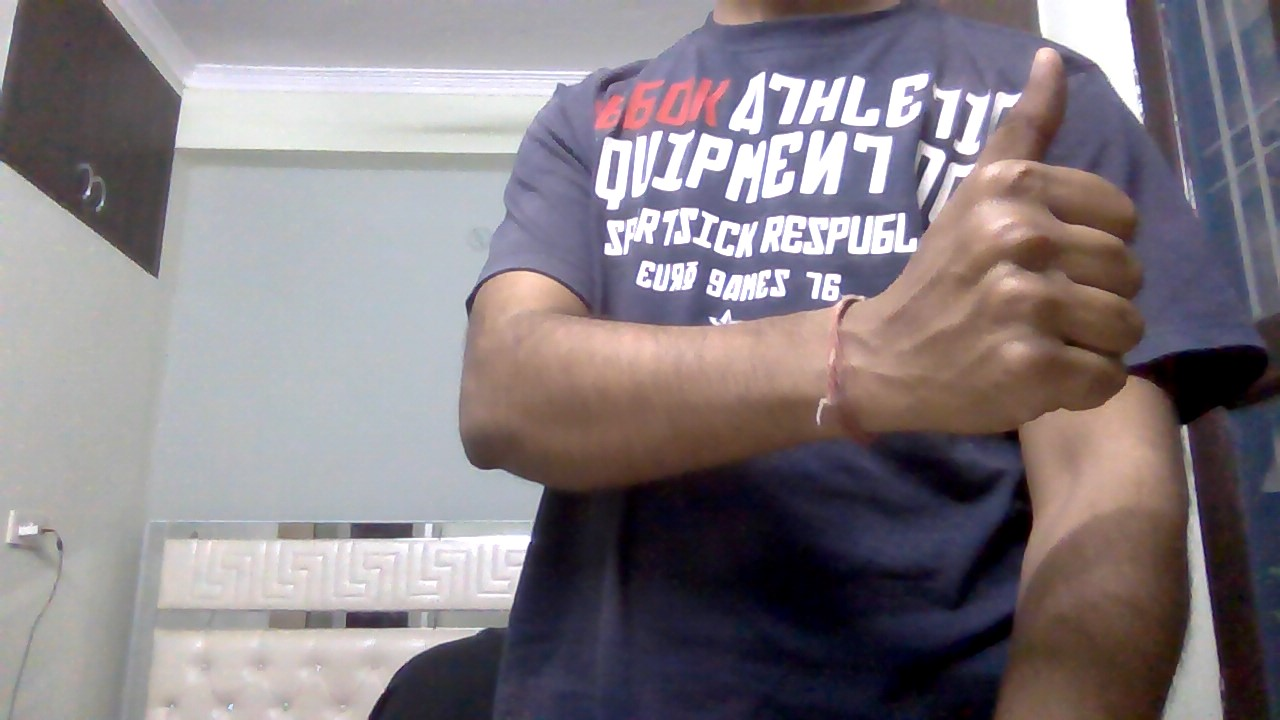Save: (894, 33, 1173, 441)
